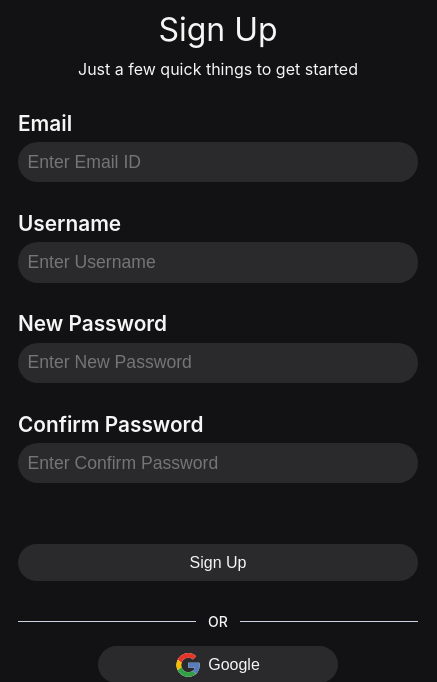
Test: register › should display an error message when email is invalid
In the field labelled "Email": (218, 162) x1=18 y1=142 x2=418 y2=182, type "not-an@email"
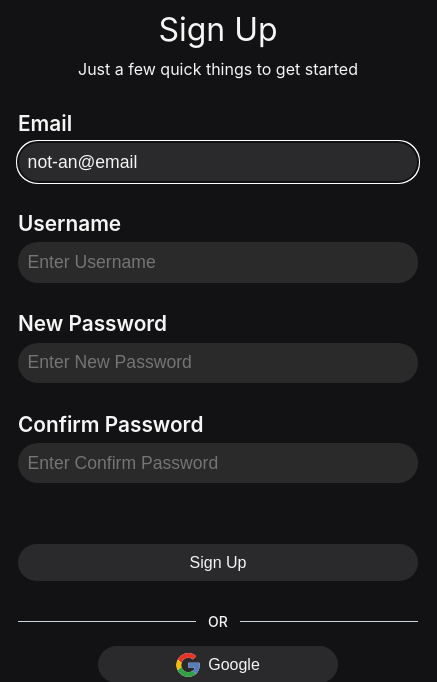
Click the button "Sign Up": (218, 563) x1=18 y1=544 x2=418 y2=581
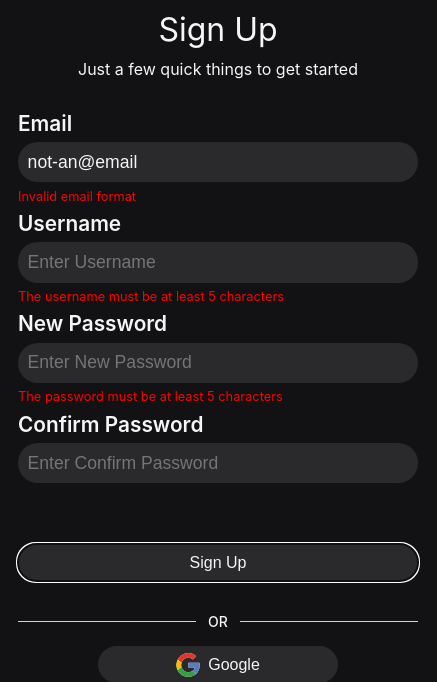
Check: the text "Invalid email format" is shown, box x1=18 y1=189 x2=136 y2=204
